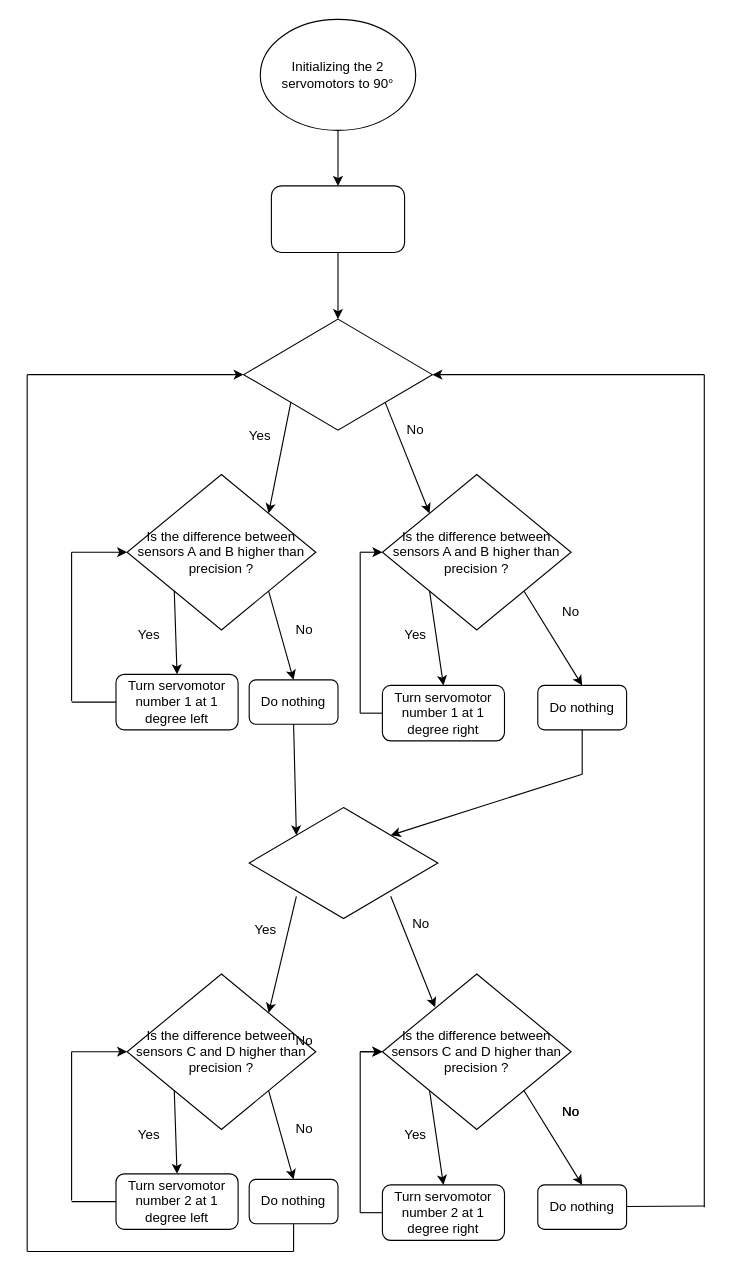
Some shapes in this 733 by 1272 pixel diagram are drawn without their labels. The shapes that lost their labels are listed below. From the top down, each one's box as (x1, y1, x2, y2) in pixels, then its label:
(270, 185, 405, 253): Calibrating the max value and min value of the 4 sensors
(243, 318, 432, 430): Is the value of sensors A higher than sensor B ?
(248, 806, 438, 919): Is the value of sensors C higher than sensor D ?
